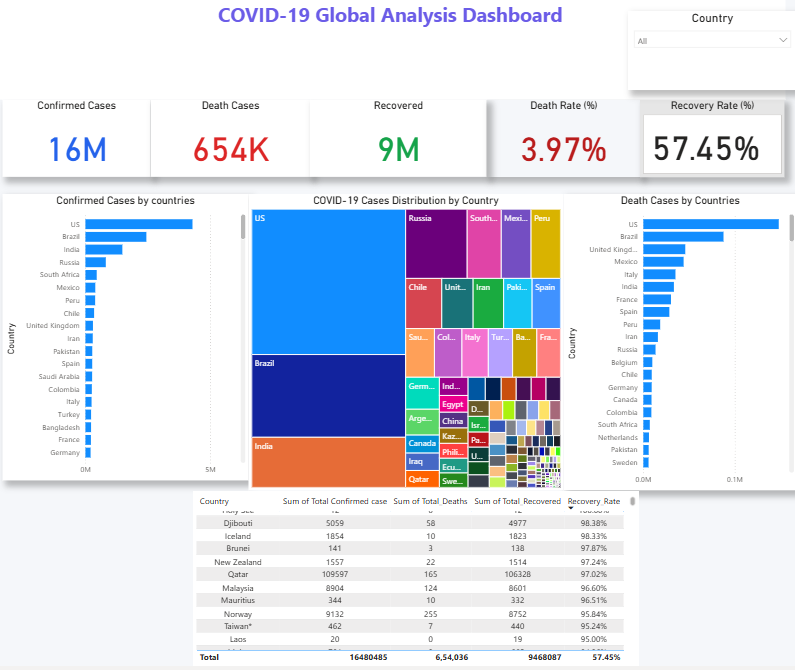

What the dashboard file says about the page in this screenshot:
{"tool":"powerbi","page":{"name":"Page 1","canvas":[1300,1100],"ordinal":0},"visuals":[{"type":"card","title":" Confirmed Cases","fields":{"Values":["Sum(cleaned_covid_countrywise.Total_Confirmed)"]},"box":[12.7,182.9,240.2,125.7],"z":0},{"type":"card","title":"Death Cases","fields":{"Values":["Sum(cleaned_covid_countrywise.Total_Deaths)"]},"box":[252.9,182.9,257.7,125.7],"z":1000},{"type":"card","title":"Recovered","fields":{"Values":["Sum(cleaned_covid_countrywise.Total_Recovered)"]},"box":[510.6,182.9,286.3,125.7],"z":2000},{"type":"card","title":"Death Rate (%)","fields":{"Values":["cleaned_covid_countrywise.Death_Rate"]},"box":[796.9,182.9,248.1,125.7],"z":3000},{"type":"barChart","title":" Confirmed Cases by countries","fields":{"Category":["cleaned_covid_countrywise.Country"],"Y":["Sum(cleaned_covid_countrywise.Total_Confirmed)"]},"box":[12.9,335.7,398.6,464.3],"z":4000},{"type":"clusteredBarChart","title":" Death Cases by Countries","fields":{"Category":["cleaned_covid_countrywise.Country"],"Y":["Sum(cleaned_covid_countrywise.Total_Deaths)"]},"box":[921.7,335,378.3,480],"z":5000},{"type":"cardVisual","title":"Recovery Rate (%)","fields":{"Data":["cleaned_covid_countrywise.Recovery_Rate"]},"box":[1044,182,234,126],"z":6000},{"type":"textbox","box":[0,17,1280.7,165.2],"z":7000},{"type":"slicer","title":"Country","fields":{"Values":["cleaned_covid_countrywise.Country"]},"box":[1026,40,274,128],"z":8000},{"type":"treemap","title":"COVID-19 Cases Distribution by Country","fields":{"Group":["cleaned_covid_countrywise.Country"],"Values":["Sum(cleaned_covid_countrywise.Total Confirmed case)"]},"box":[411.4,335.7,510,480],"z":9000},{"type":"tableEx","fields":{"Values":["cleaned_covid_countrywise.Country","Sum(cleaned_covid_countrywise.Total Confirmed case)","Sum(cleaned_covid_countrywise.Total_Deaths)","Sum(cleaned_covid_countrywise.Total_Recovered)","cleaned_covid_countrywise.Recovery_Rate"]},"box":[321.7,816.7,721.7,283.3],"z":10000}]}

Visuals, with their boxes in screenshot pixels (x1, y1, x2, y2), scaled from the page's 1300x1100 canvas onto the 795x670 screenshot:
" Confirmed Cases" card: l=8, t=111, r=155, b=188
"Death Cases" card: l=155, t=111, r=312, b=188
"Recovered" card: l=312, t=111, r=487, b=188
"Death Rate (%)" card: l=487, t=111, r=639, b=188
" Confirmed Cases by countries" barChart: l=8, t=204, r=252, b=487
" Death Cases by Countries" clusteredBarChart: l=564, t=204, r=794, b=496
"Recovery Rate (%)" cardVisual: l=638, t=111, r=782, b=188
textbox: l=0, t=10, r=783, b=111
"Country" slicer: l=627, t=24, r=794, b=102
"COVID-19 Cases Distribution by Country" treemap: l=252, t=204, r=563, b=497
tableEx - cleaned_covid_countrywise.Country x Sum(cleaned_covid_countrywise.Total Confirmed case): l=197, t=497, r=638, b=669
